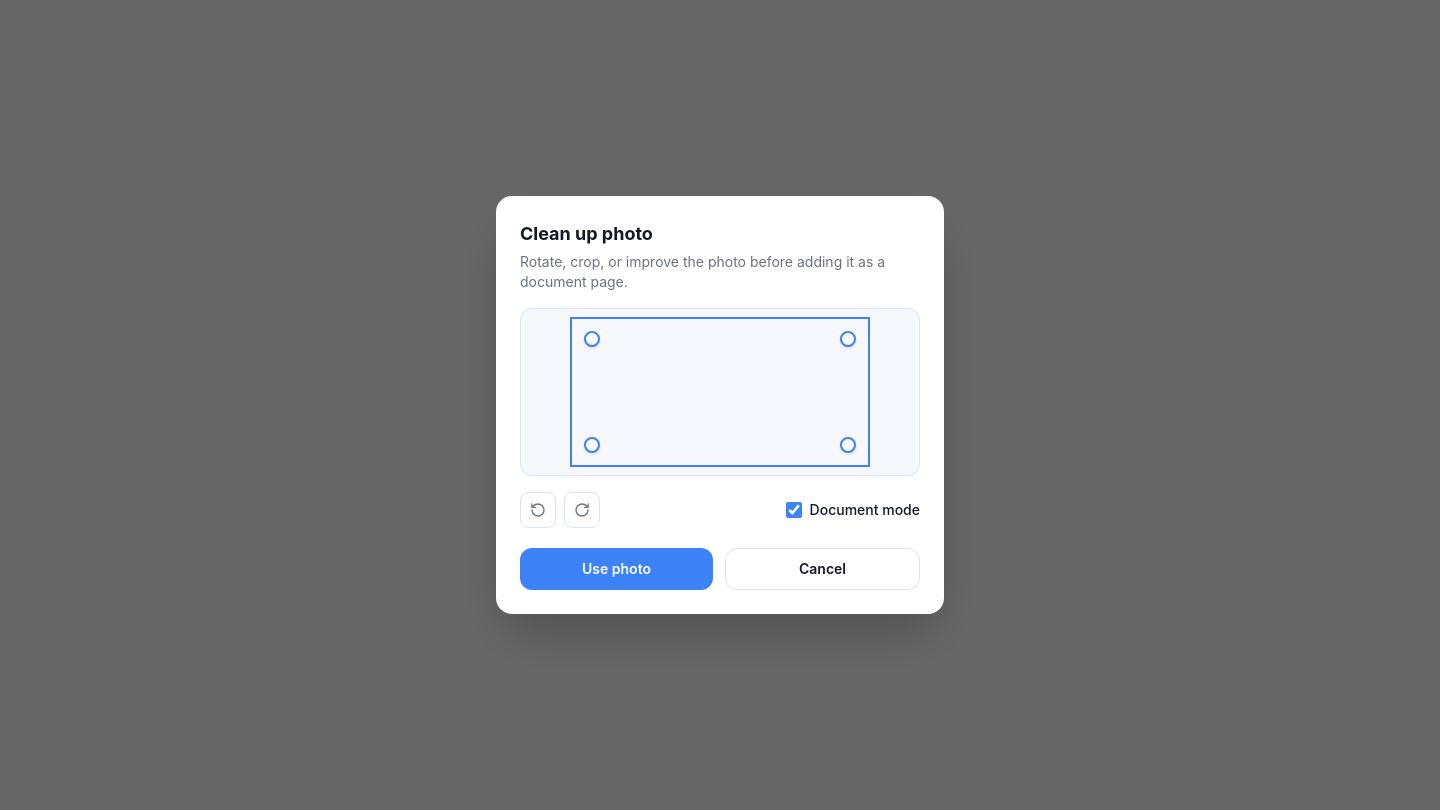
it: PhotoCleanupModal › cropping updates the preview and reveals Reset crop
The width and height of the screenshot is (1440, 810).
Press the mouse on the element with test id "crop-handle-se" at (848, 445), box 840,437 -> 856,453
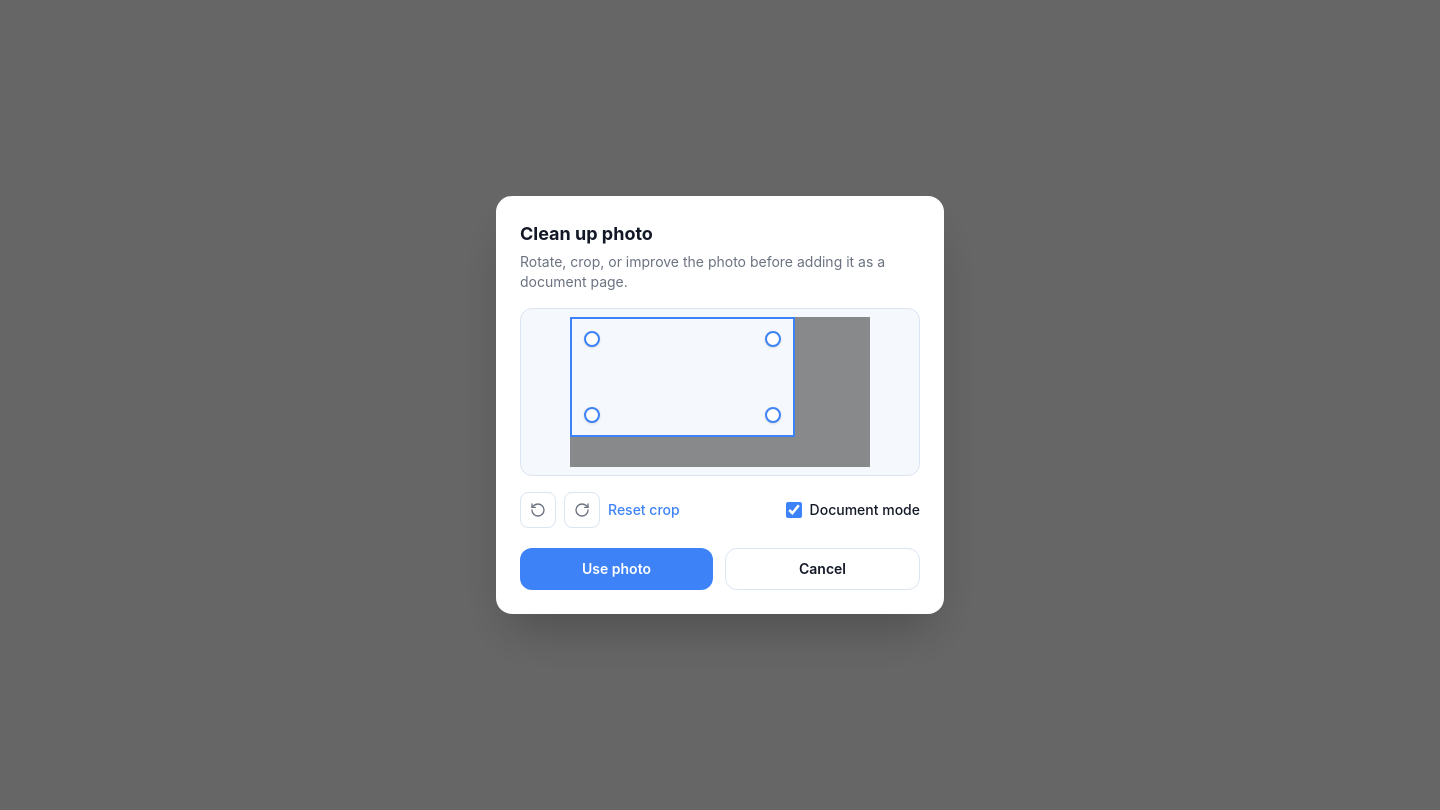
Result: the button "Reset crop" is shown at 608,500 -> 680,520
